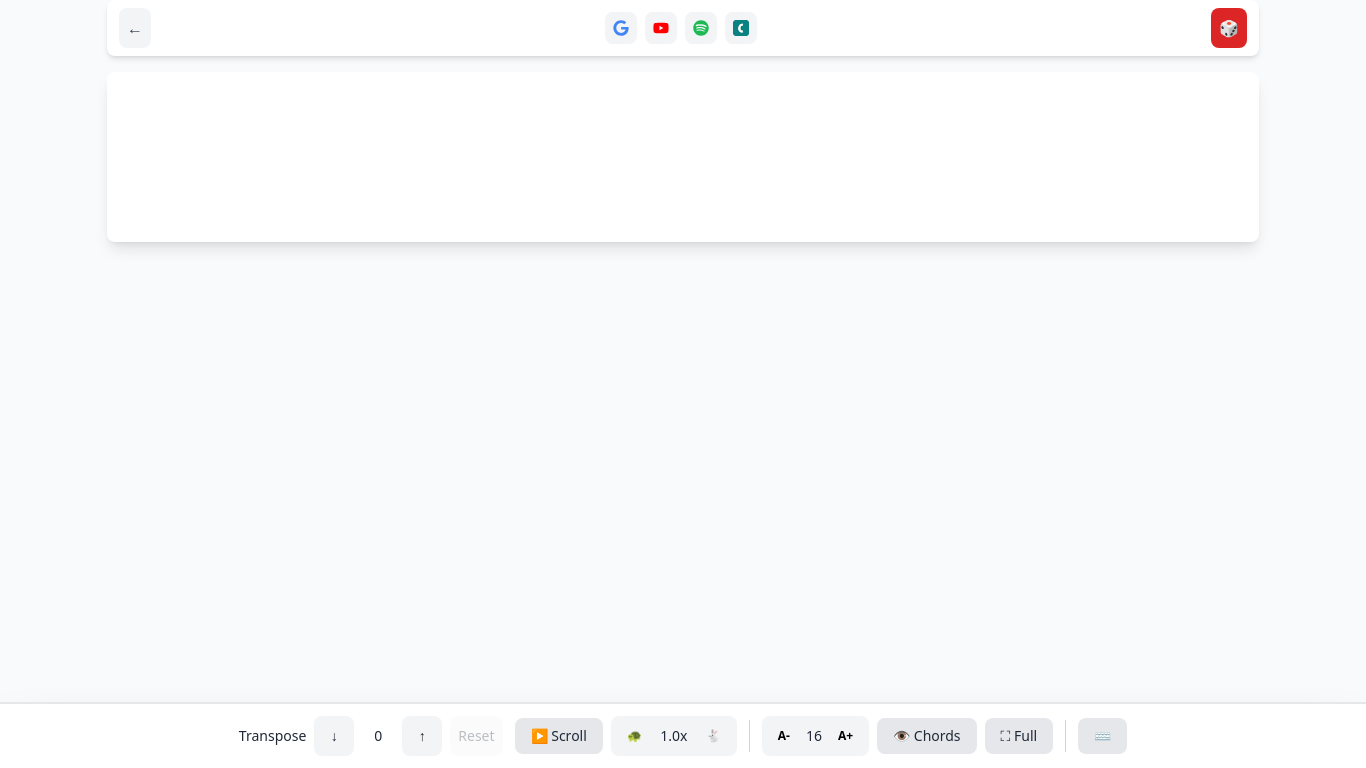
Test: SongDisplay random button in fullscreen › shows the random button in the control bar once fullscreen is on
This screenshot has width=1366, height=768.
Expected: the button titled "Random Song (R)" is shown, left=1211, top=8, right=1247, bottom=48
Step 1. Click the button titled "Fullscreen (F)" → coordinates (1019, 736), box left=985, top=718, right=1053, bottom=754
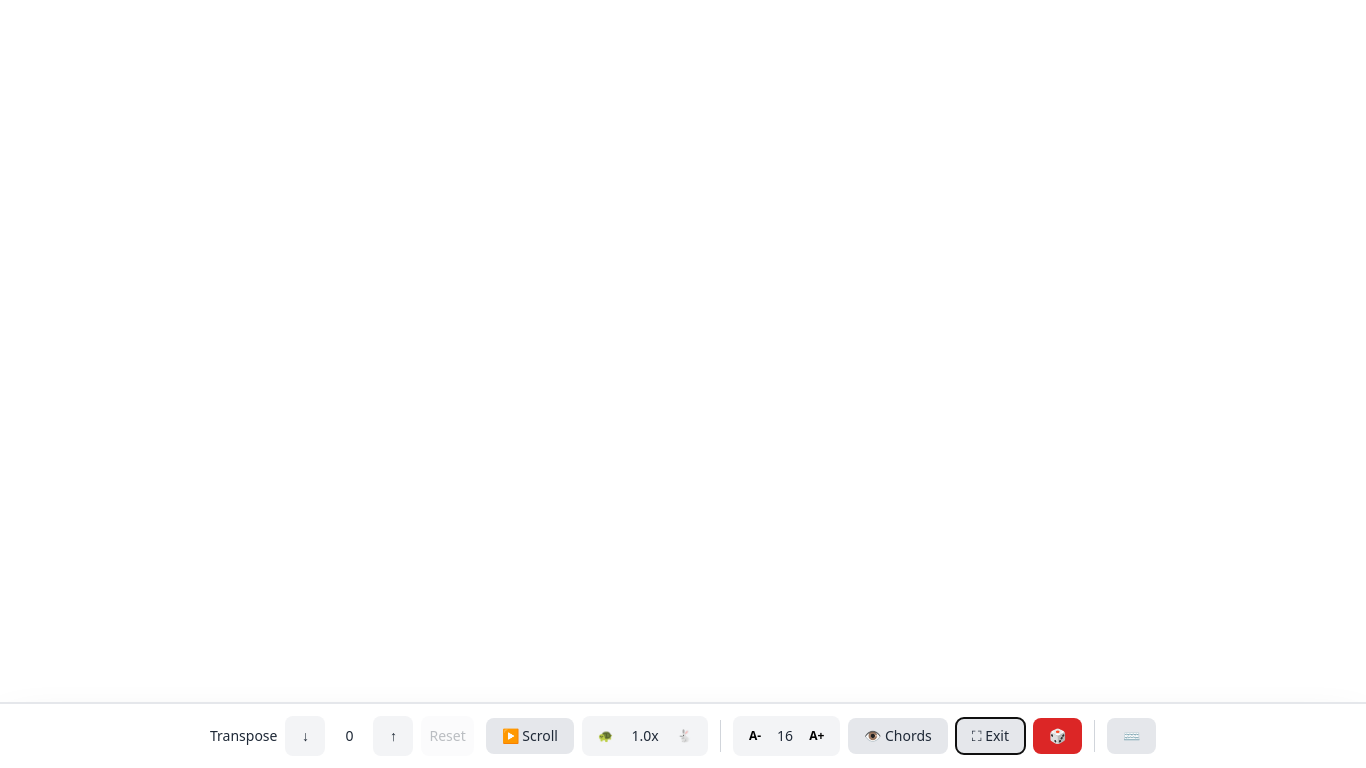
Expected: the number of buttons titled "Random Song (R)" is 1, left=1033, top=718, right=1082, bottom=754
